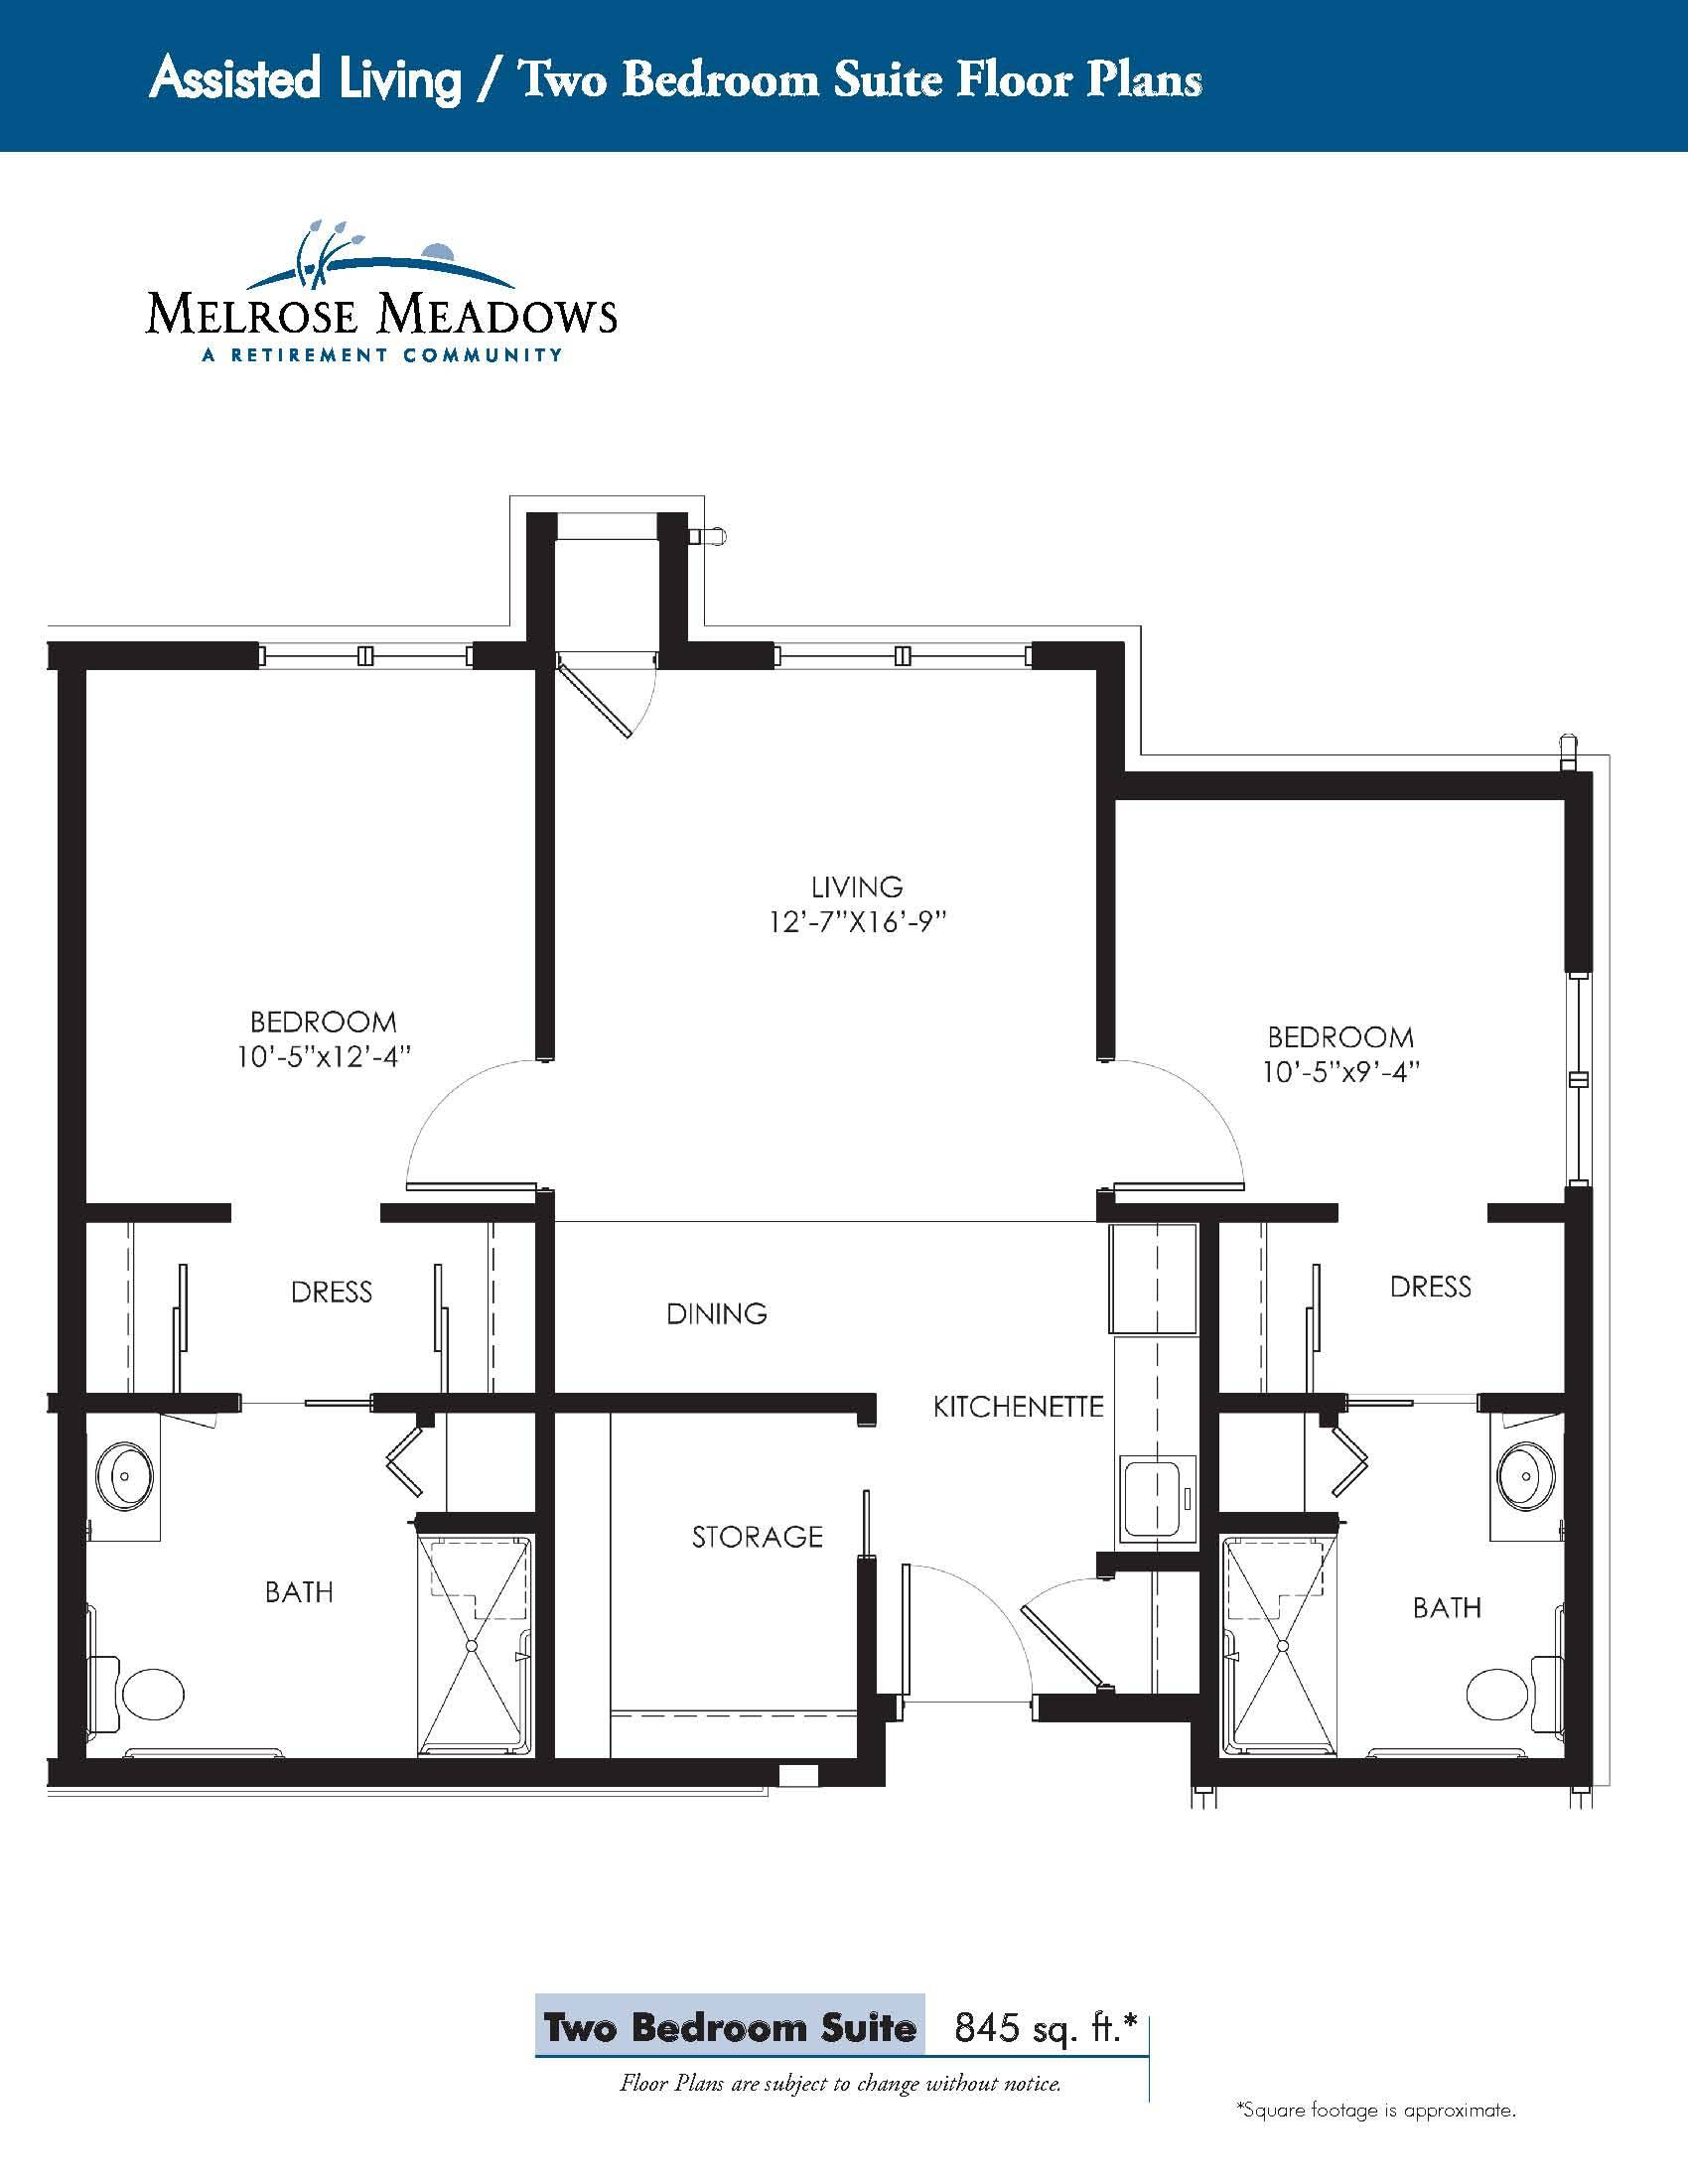door: (1121, 1049, 1271, 1198), (402, 1057, 532, 1200), (895, 1556, 1014, 1693), (557, 672, 690, 757), (1020, 1562, 1099, 1689), (1319, 1427, 1383, 1503), (381, 1427, 426, 1501)
